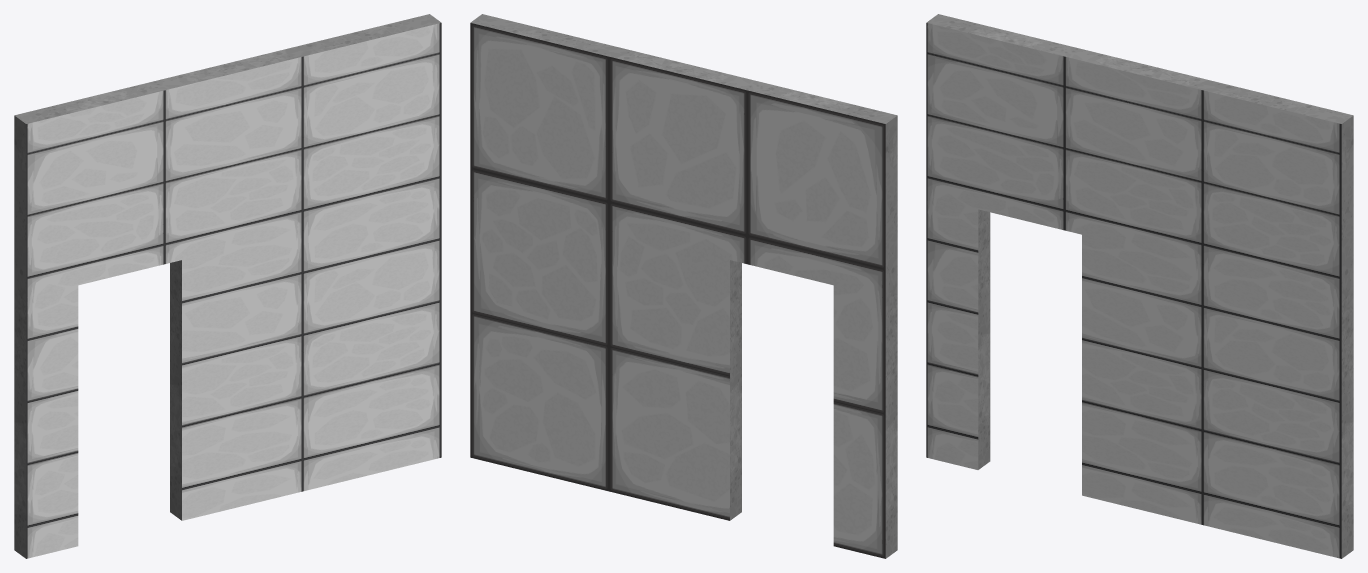
Rendered from SM_Wall_Door_B.fbx.
3 renders of one model, left to right at view 1: azimuth 30°, elevation 25°; view 2: azimuth 150°, elevation 25°; view 3: azimuth 330°, elevation 25°, orthographic.
Visible parts, largest first — view 1: SM_Wall_Door_B; view 2: SM_Wall_Door_B; view 3: SM_Wall_Door_B.
Boxes of the visible parts, bbox=[...] form: SM_Wall_Door_B: bbox=[14, 14, 441, 558]; SM_Wall_Door_B: bbox=[470, 14, 897, 558]; SM_Wall_Door_B: bbox=[926, 14, 1353, 558].
Size of the model in its own units: 400 by 400 by 20.
